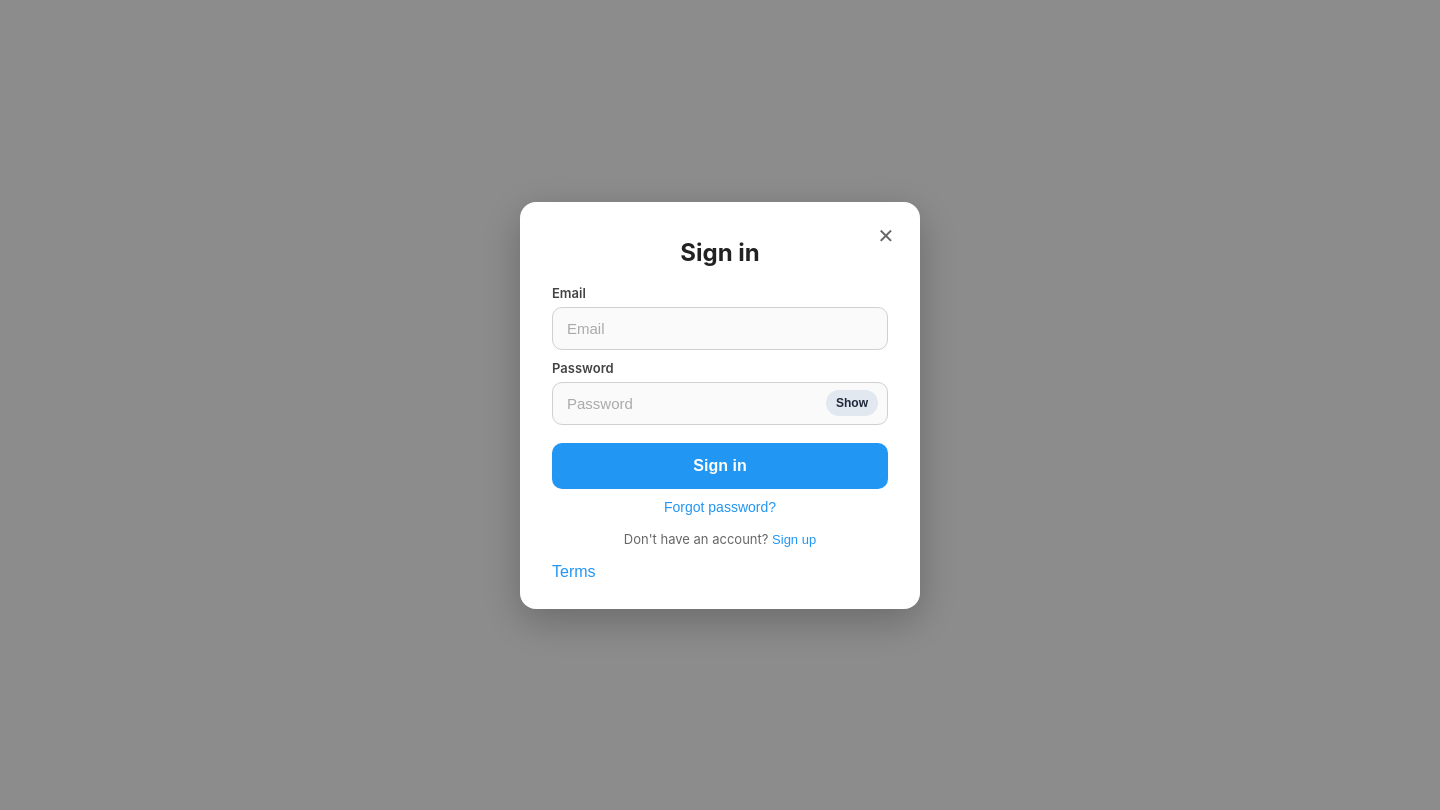
SignIn Component › displays error message on failed sign-in
Step 1. Type "wrong@example.com" into the field labelled "Email" → (720, 328), box [552,306,888,350]
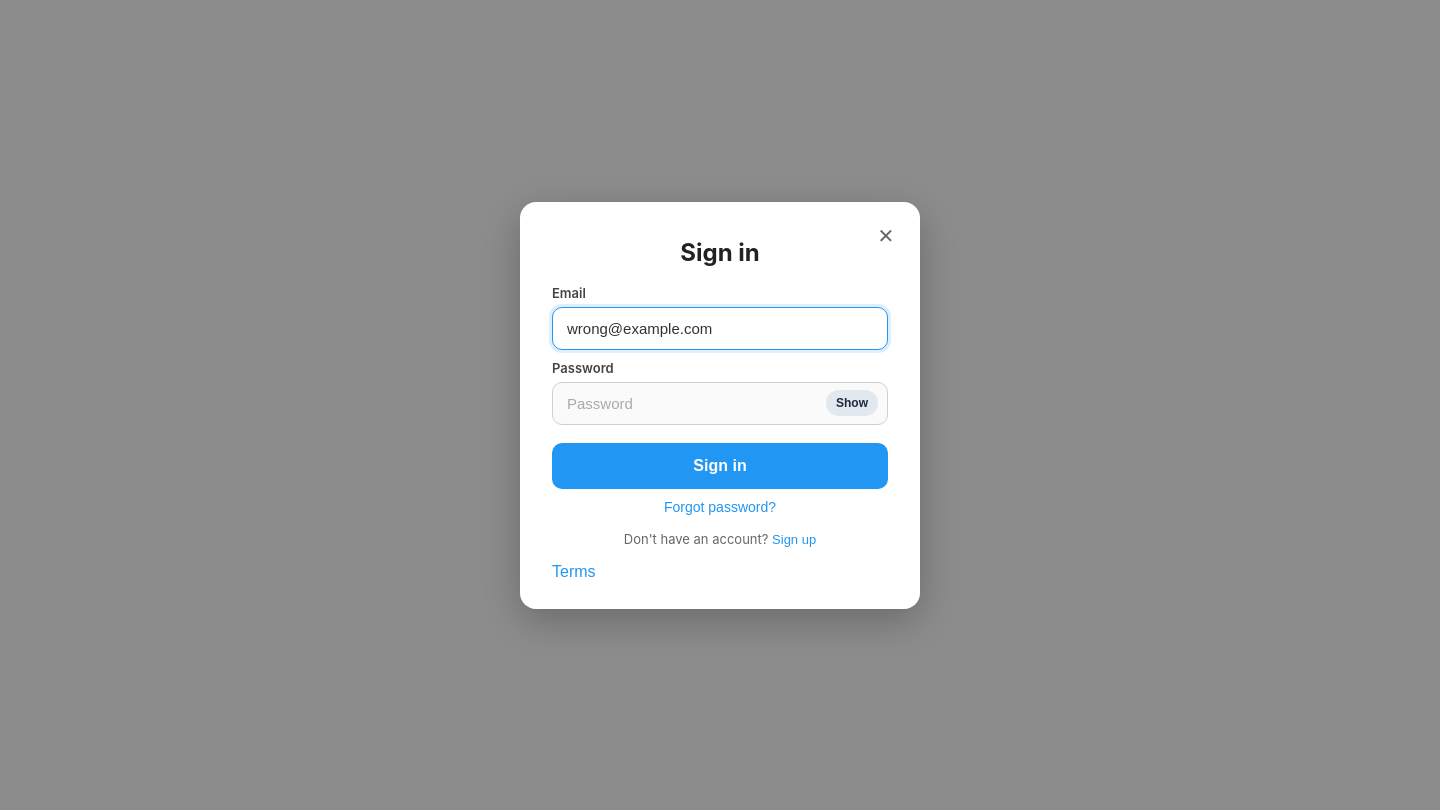
Step 2. Type "WrongPass1!" into the password field labelled "Password" → (720, 403), box [552,382,888,424]
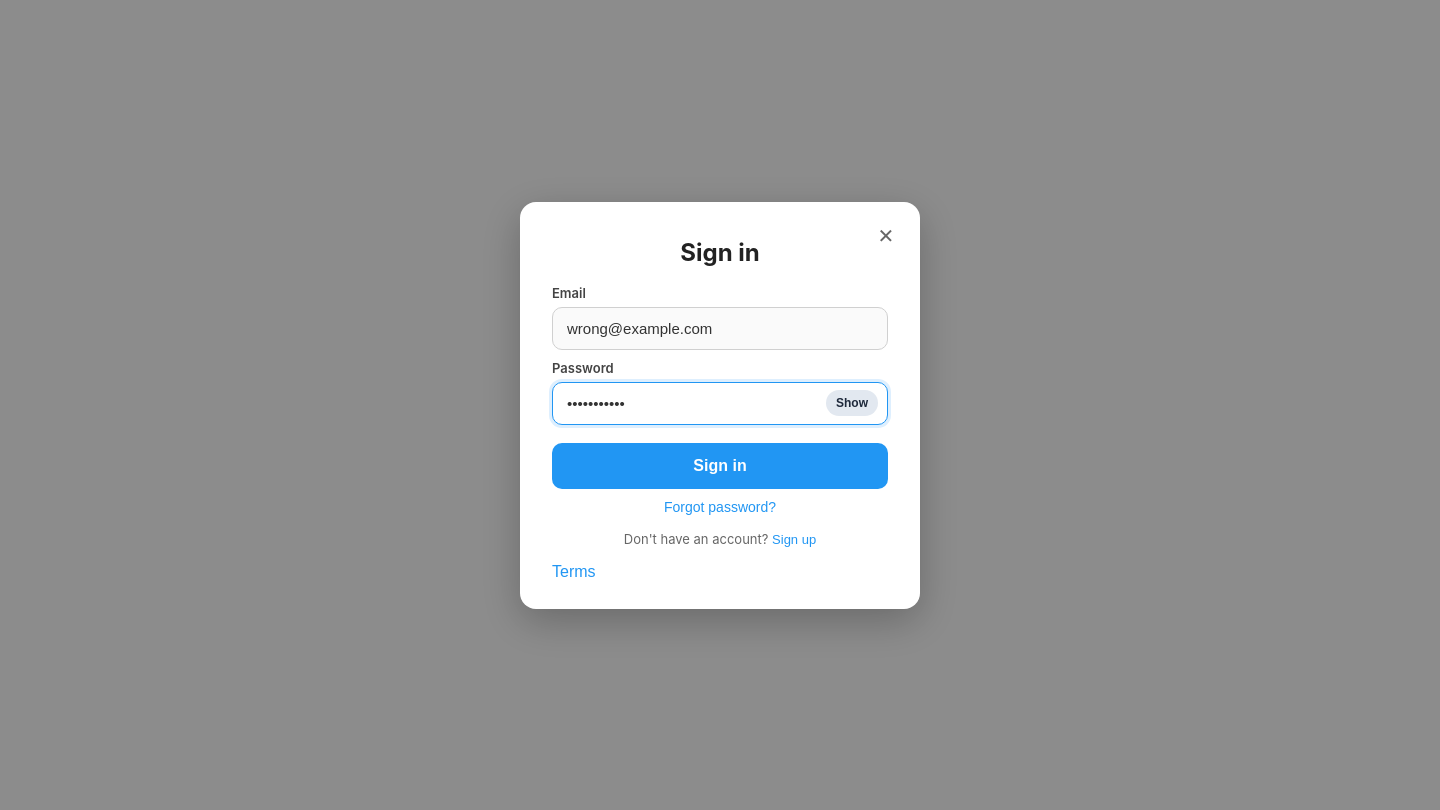
Step 3. Click the button "Sign in" → (720, 466), box [552,442,888,488]
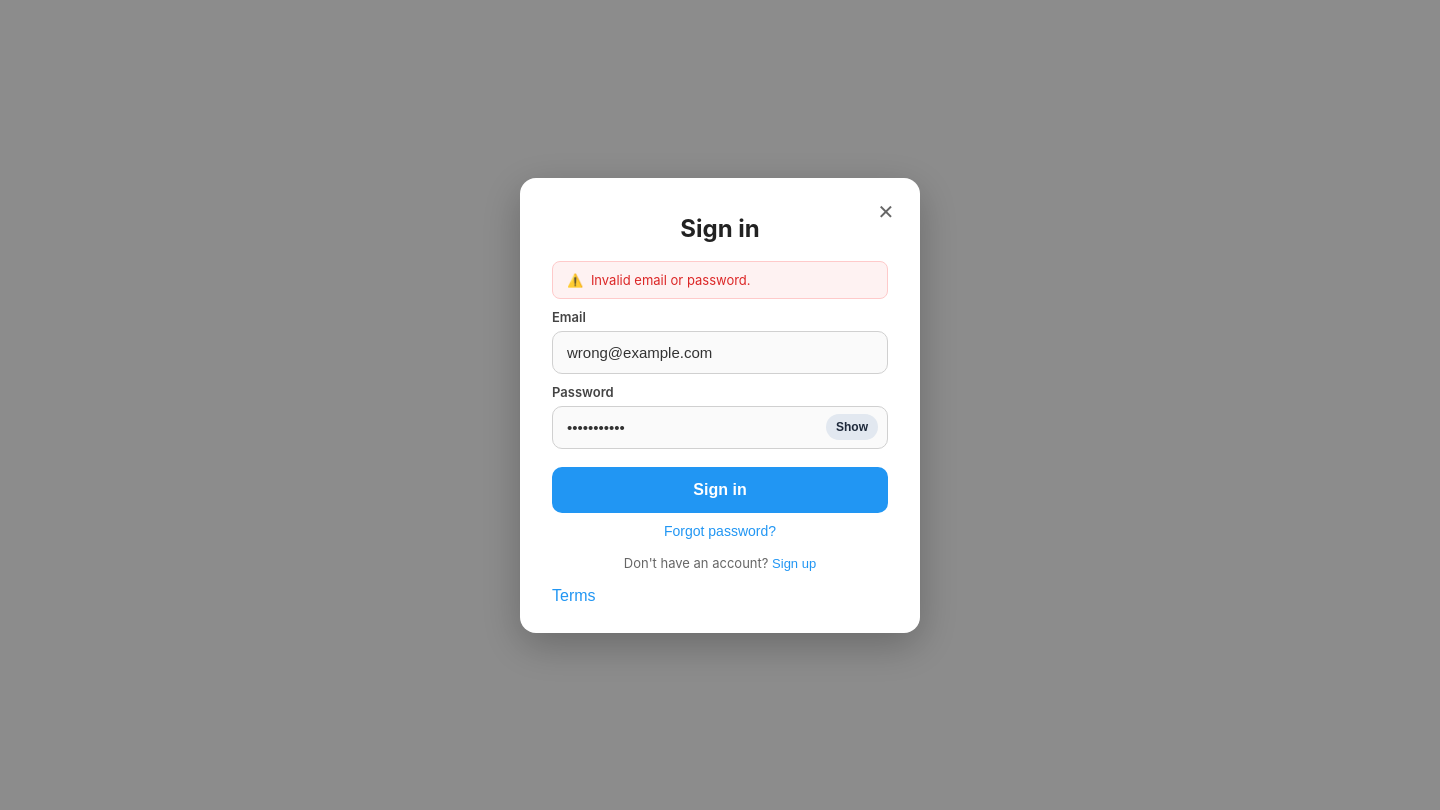
Expected: the text "⚠️ Invalid email or password." is shown, [552,260,888,298]
